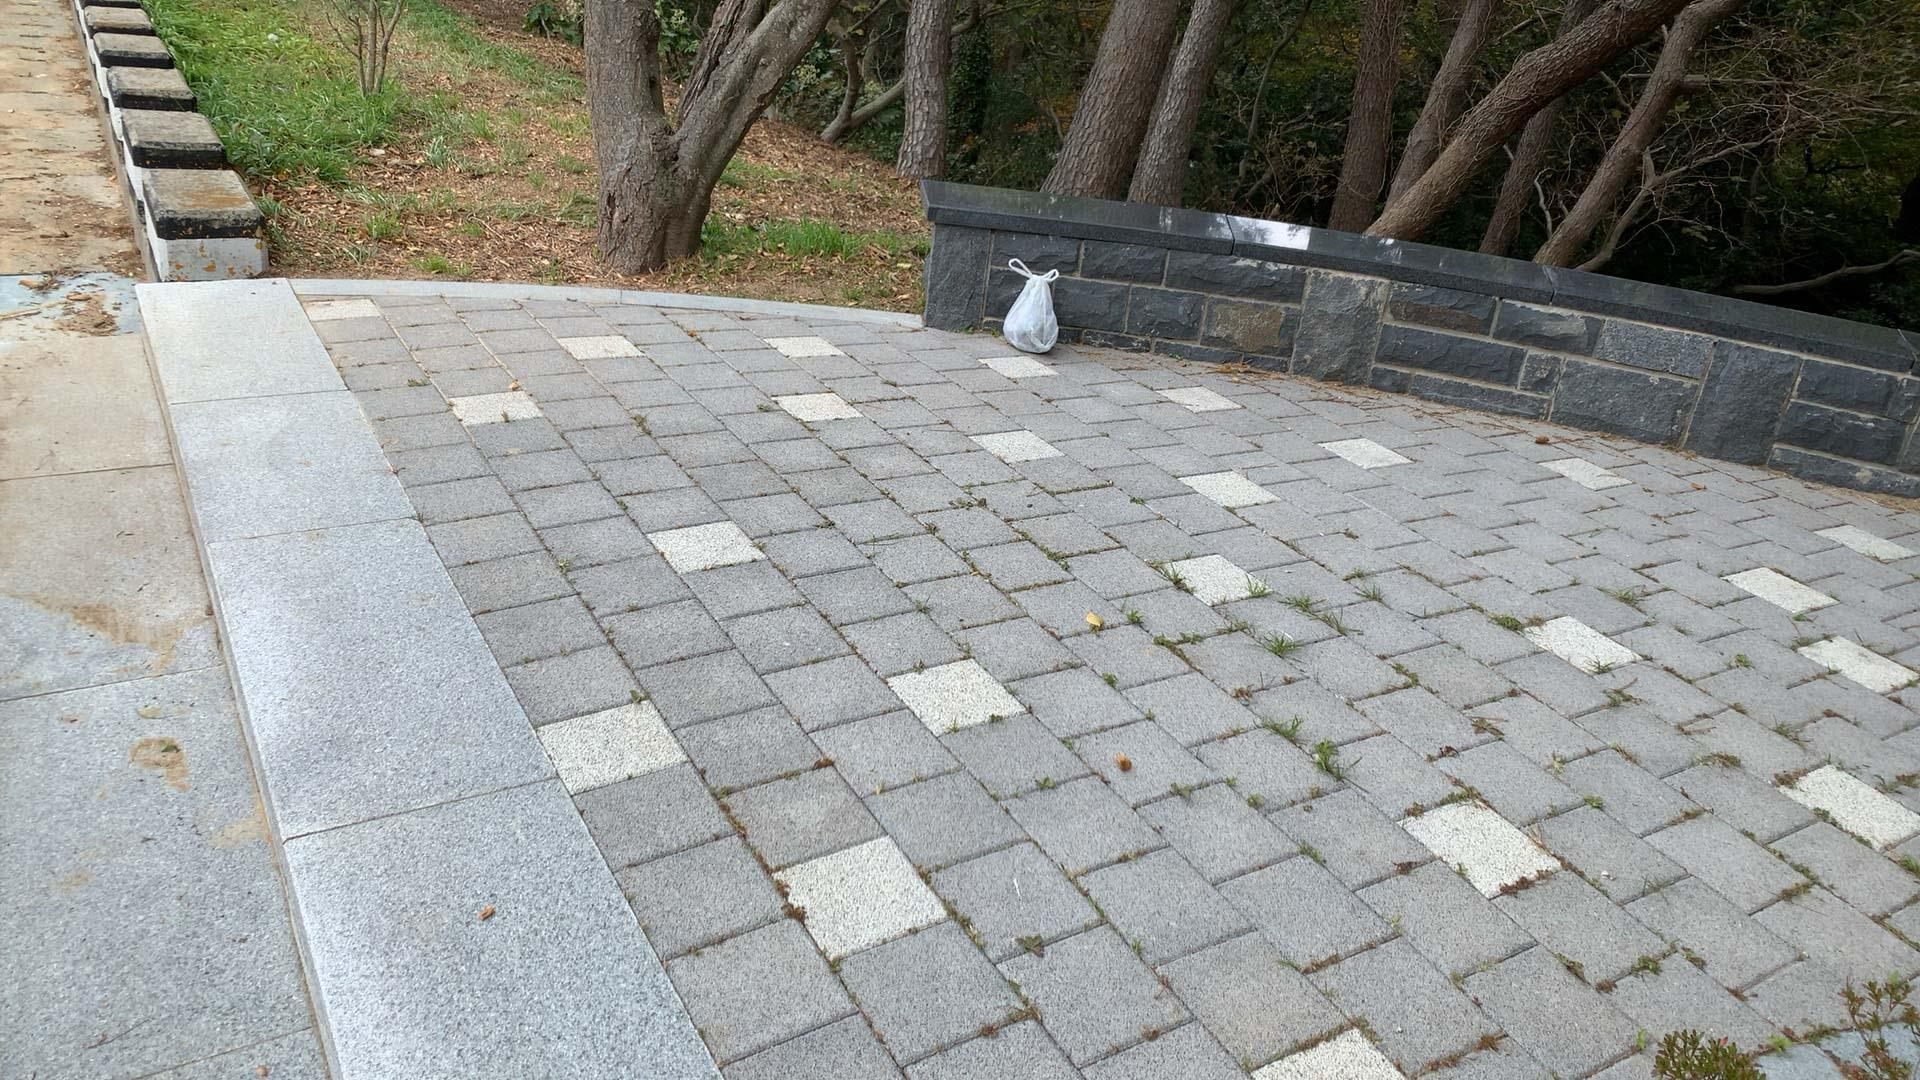white_bag: (992, 251, 1068, 357)
